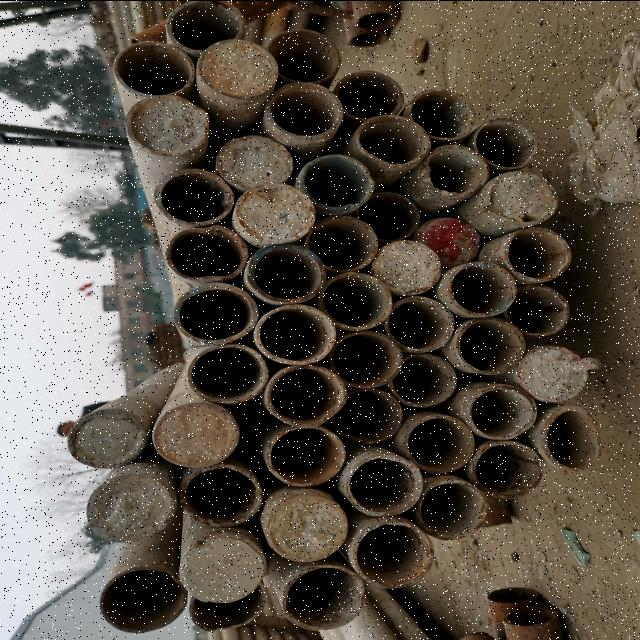pipe: (86, 466, 176, 544), (100, 558, 186, 636), (180, 529, 266, 603), (170, 279, 262, 345), (283, 561, 367, 633), (353, 518, 433, 592), (121, 92, 212, 156), (264, 493, 348, 562), (154, 402, 242, 466), (264, 362, 350, 426), (232, 180, 318, 242), (180, 462, 264, 524), (197, 36, 281, 98), (66, 406, 148, 469), (242, 242, 328, 302), (268, 423, 348, 487), (148, 166, 237, 223), (163, 222, 250, 280), (187, 342, 269, 403), (349, 450, 422, 518), (254, 304, 334, 366), (111, 37, 196, 94), (322, 268, 396, 332), (417, 478, 488, 544), (216, 130, 296, 188), (408, 408, 478, 474), (330, 329, 405, 389), (482, 168, 562, 224), (542, 404, 604, 476), (268, 80, 344, 138), (309, 211, 379, 273), (454, 314, 526, 374), (164, 0, 248, 50), (520, 344, 590, 404), (269, 25, 343, 81), (473, 439, 542, 499), (304, 150, 376, 207), (191, 583, 274, 631), (388, 292, 452, 354), (334, 387, 406, 442), (447, 260, 517, 316), (358, 112, 432, 164), (337, 64, 408, 118), (375, 238, 443, 294), (393, 352, 461, 408), (468, 384, 538, 438), (406, 85, 476, 139), (422, 142, 488, 198), (414, 215, 482, 268), (470, 116, 539, 168), (504, 228, 570, 282), (357, 189, 423, 240), (506, 284, 570, 336), (502, 602, 560, 628), (486, 583, 544, 607), (344, 28, 390, 50), (354, 9, 399, 30)
